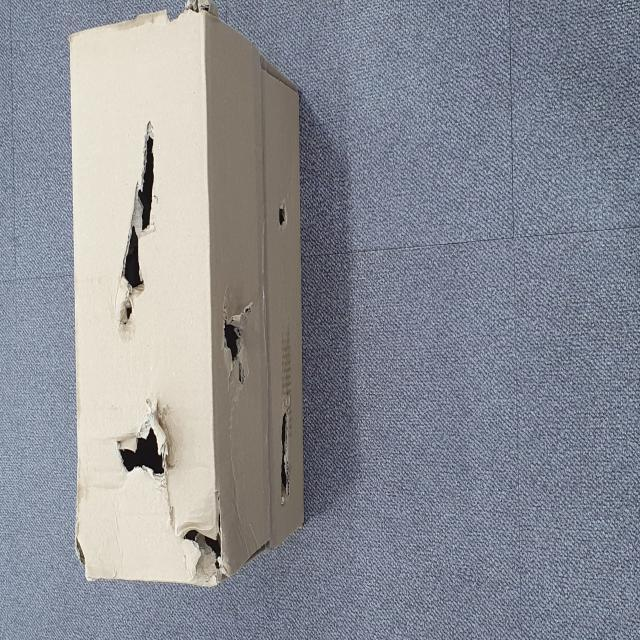hole: (115, 118, 162, 328), (113, 397, 177, 499), (180, 493, 226, 588), (220, 290, 254, 396), (277, 402, 293, 510), (277, 197, 287, 233)
